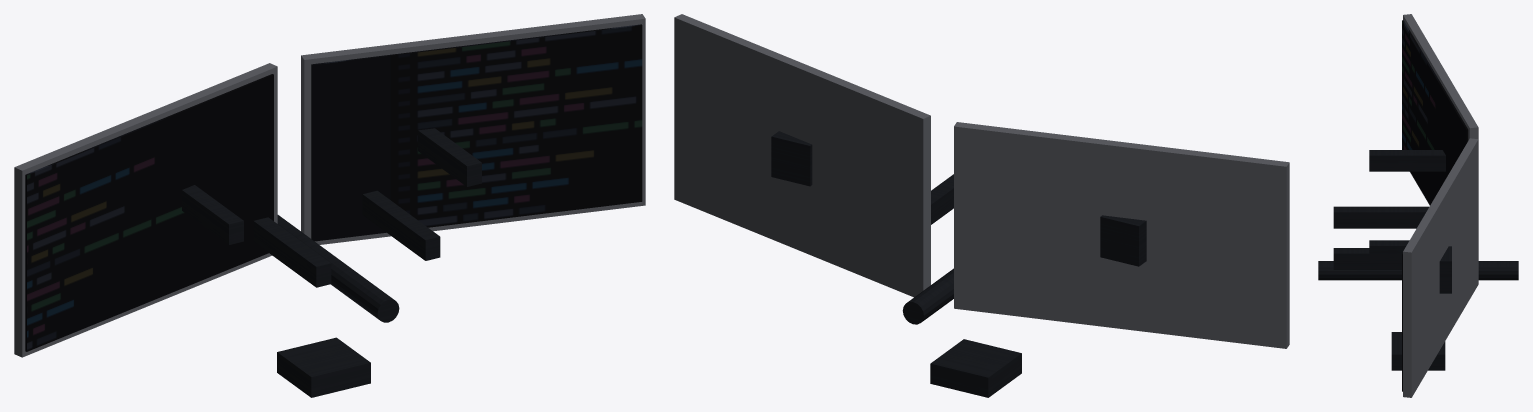
File: dual_monitors_arm.glb
3 renders of one model, left to right at view 1: azimuth 30°, elevation 25°; view 2: azimuth 150°, elevation 25°; view 3: azimuth 270°, elevation 25°, orthographic. The views are drawn at different scales.
Parts seen in each view (by area): view 1: EmissivePanels, MonitorArm, MonitorBezels; view 2: MonitorBezels, MonitorArm; view 3: MonitorBezels, MonitorArm, EmissivePanels.
Boxes of the visible parts, x1,y1,x2,y2 form: EmissivePanels: (25,24,642,351); MonitorArm: (182,128,481,397); MonitorBezels: (14,14,645,357); MonitorBezels: (674,14,1289,348); MonitorArm: (771,131,1146,397); MonitorBezels: (1403,14,1478,397); MonitorArm: (1318,150,1518,370); EmissivePanels: (1402,20,1468,391).
Bounding box in the file's own units: 1.27 × 0.56 × 0.45.
3 materials, 2 textured.
